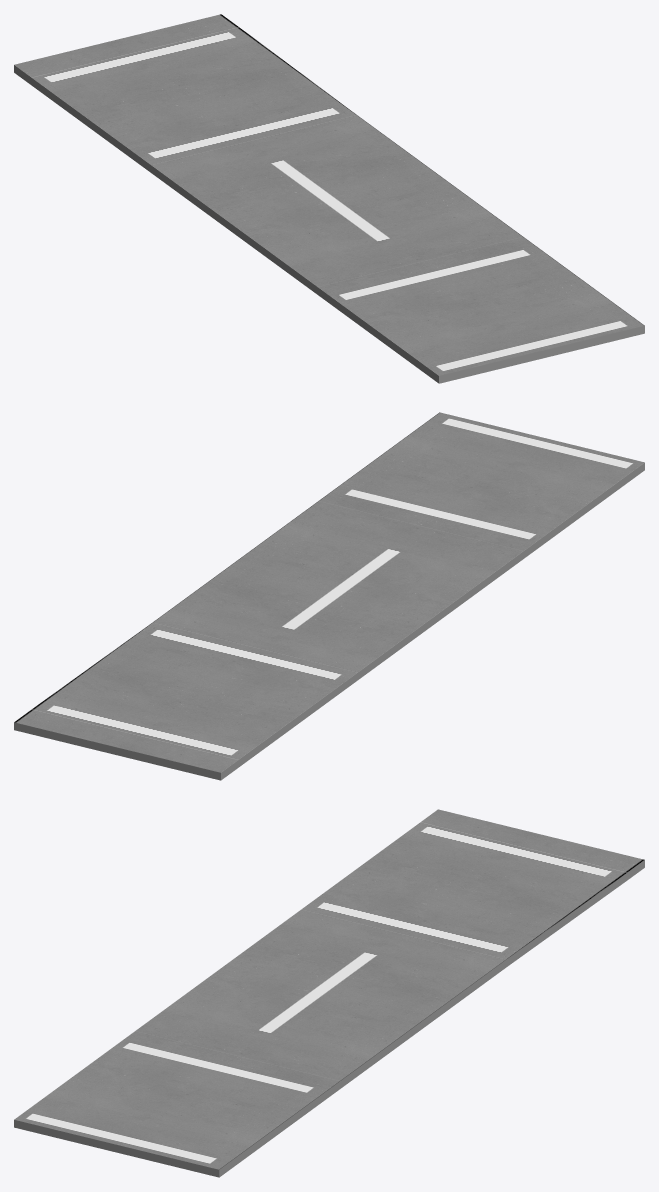
File: Road export test.fbx
3 views of the same model, one above another, from view 1: azimuth 30°, elevation 25°; view 2: azimuth 150°, elevation 25°; view 3: azimuth 330°, elevation 25° (orthographic).
Parts seen in each view (by area): view 1: pCube376; view 2: pCube376; view 3: pCube376.
Boxes of the visible parts, box(x1,y1,x2,y2) form: pCube376: box(14, 14, 644, 383); pCube376: box(14, 412, 644, 780); pCube376: box(14, 809, 644, 1177).
Size of the model in its own units: 2.49 by 0.09 by 8.85.
2 materials, 1 textured.
